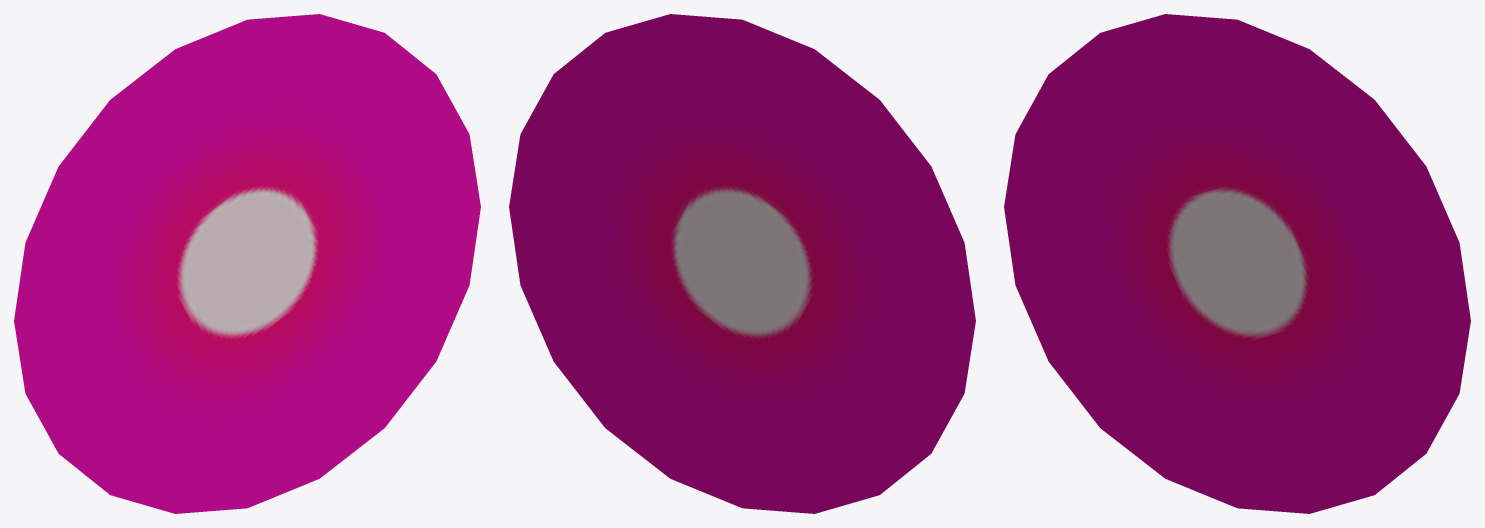
The model's file is bullet_red.glb.
The picture shows the model from 3 angles, left to right: view 1: azimuth 30°, elevation 25°; view 2: azimuth 150°, elevation 25°; view 3: azimuth 330°, elevation 25°; orthographic projection.
Parts seen in each view (by area): view 1: Cylinder; view 2: Cylinder; view 3: Cylinder.
Boxes of the visible parts, x1,y1,x2,y2 form: Cylinder: (14,14,480,513); Cylinder: (509,14,975,513); Cylinder: (1004,14,1470,513).
Bounding box in the file's own units: 8.02 × 8.02 × 6.05e-07.
Materials: 1 (1 with a texture image).
